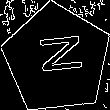N_W: (30, 36, 84, 82)
